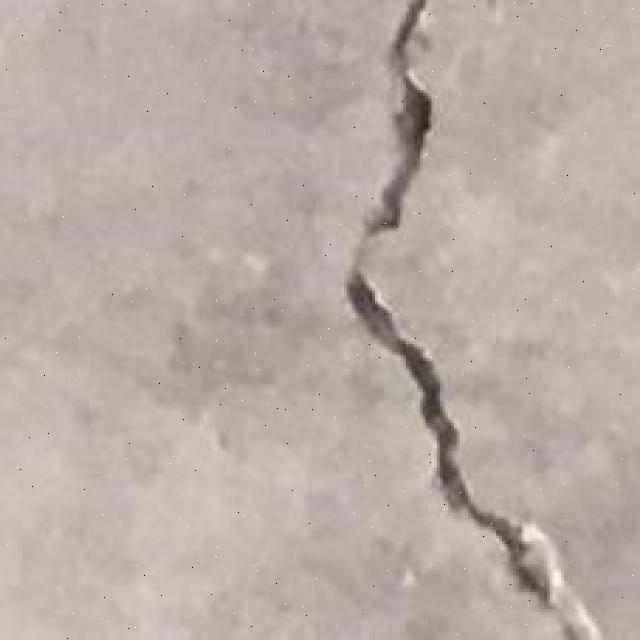vegetation: (342, 0, 607, 638)
